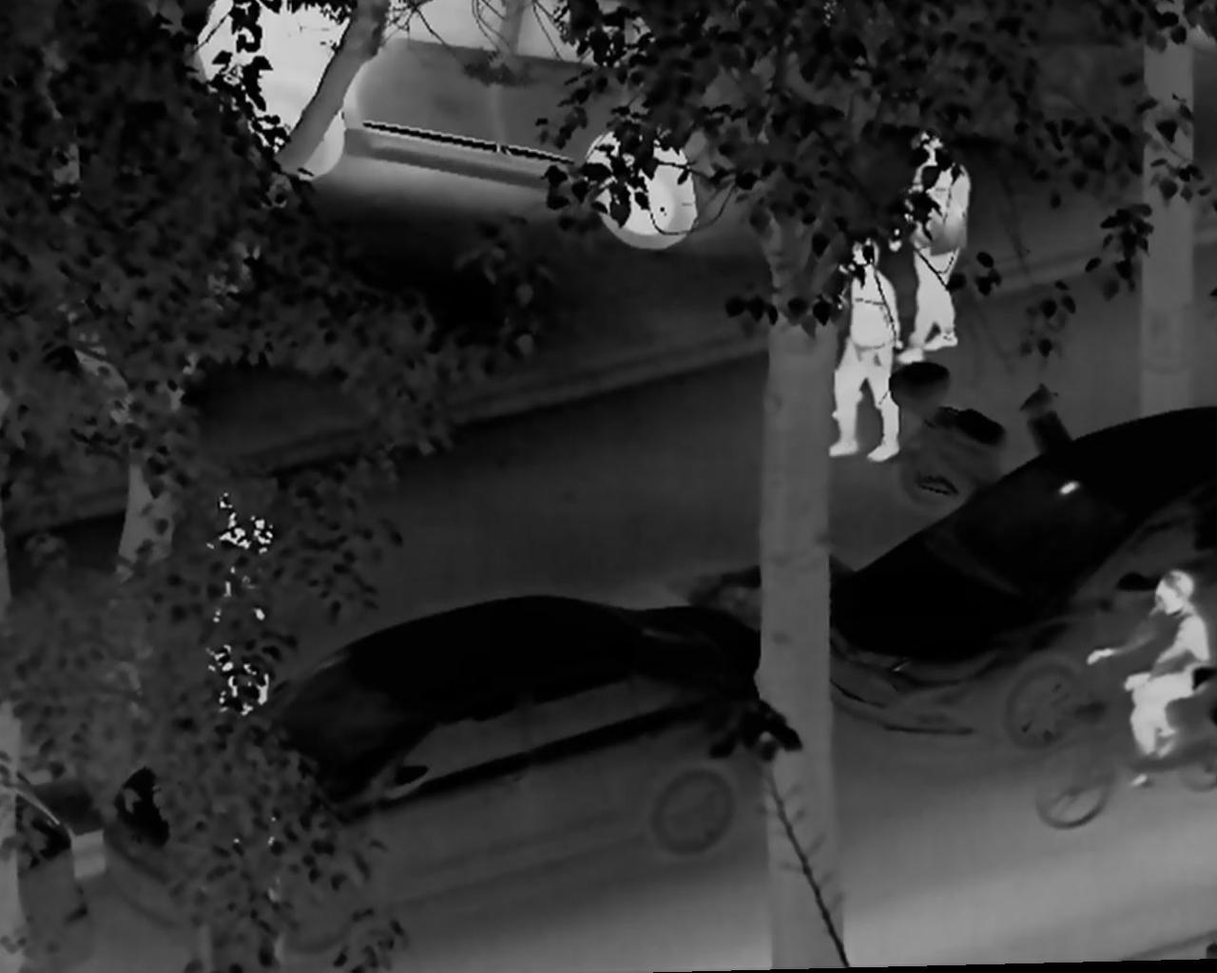person: (1087, 569, 1209, 799), (894, 118, 967, 369), (201, 480, 277, 719), (823, 239, 898, 459), (824, 377, 868, 425)
